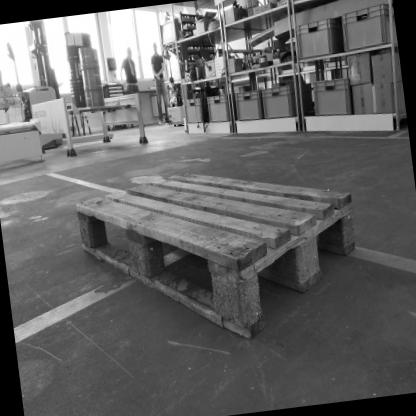BoxFace: (74, 166, 361, 345)
